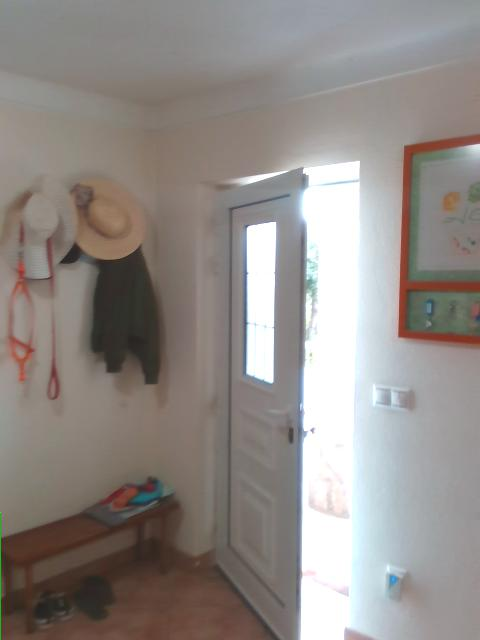semi_door: (206, 159, 359, 639)
